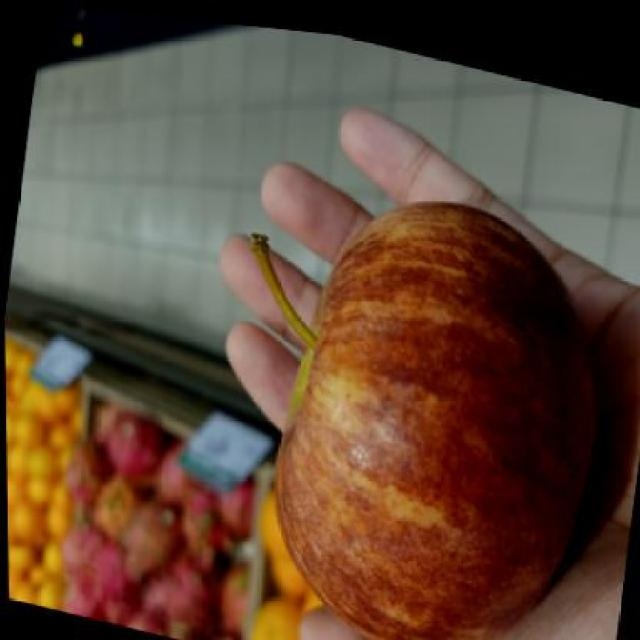Rotten: (251, 200, 595, 634)
